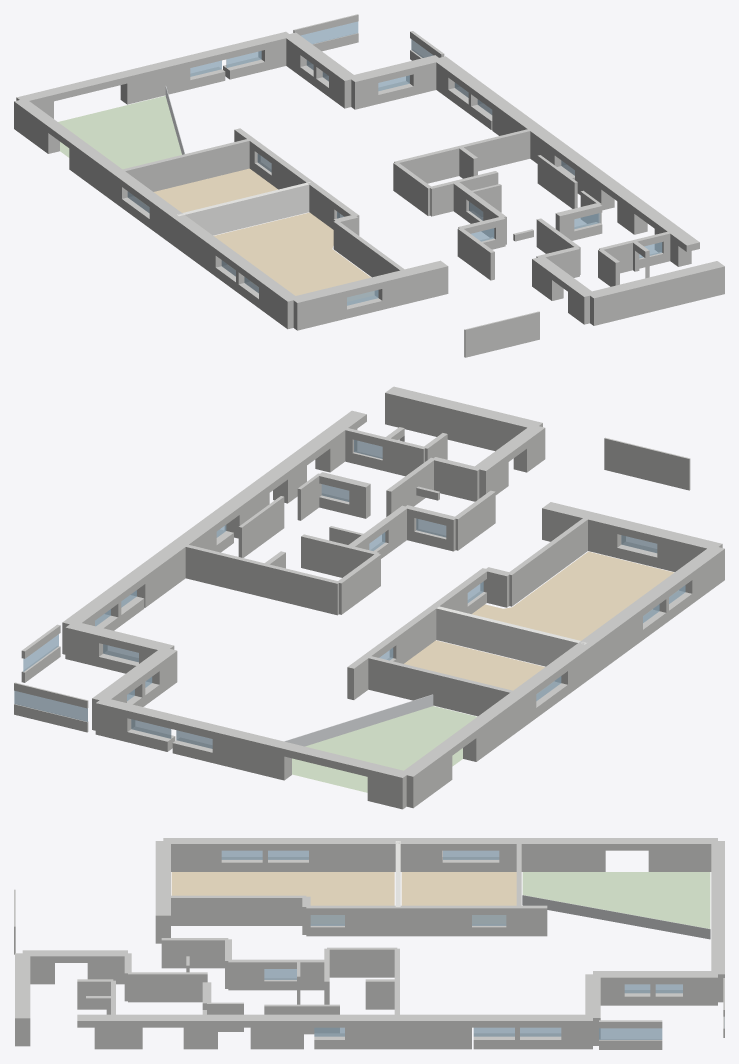
Rendered from Screenshot 2026-10-06 152800_3d.glb.
The picture shows the model from 3 angles, top to bottom: view 1: azimuth 30°, elevation 25°; view 2: azimuth 150°, elevation 25°; view 3: azimuth 270°, elevation 25°; orthographic projection. The views are drawn at different scales.
Visible parts, largest first — view 1: floor_R3_living_144, floor_R1_balcony_142, wall_W20_46, wall_W5_19, wall_W4_18, floor_R2_living_143, wall_W2_5, wall_W21_47, wall_W15_34, wall_W24_56, wall_W25_65, wall_W7_21 (+37 smaller); view 2: floor_R3_living_144, floor_R1_balcony_142, wall_W20_46, wall_W5_19, wall_W4_18, floor_R2_living_143, wall_W2_5, wall_W25_65, wall_W21_47, wall_W7_21, wall_W6_20, wall_W22_50 (+41 smaller); view 3: floor_R1_balcony_142, floor_R3_living_144, floor_R2_living_143, wall_W25_65, wall_W24_56, wall_W22_50, wall_W41_107, wall_W34_84, wall_W27_70, wall_W22_48, wall_W30_76, railing_R1_141 (+67 smaller).
Boxes of the visible parts, bbox=[...] form: floor_R3_living_144: bbox=[214, 212, 374, 301]; floor_R1_balcony_142: bbox=[58, 96, 181, 169]; wall_W20_46: bbox=[586, 261, 724, 325]; wall_W5_19: bbox=[177, 182, 310, 235]; wall_W4_18: bbox=[117, 138, 251, 191]; floor_R2_living_143: bbox=[137, 168, 277, 212]; wall_W2_5: bbox=[120, 56, 190, 104]; wall_W21_47: bbox=[464, 311, 539, 357]; wall_W15_34: bbox=[291, 285, 346, 330]; wall_W24_56: bbox=[171, 215, 226, 276]; wall_W25_65: bbox=[333, 221, 405, 277]; wall_W7_21: bbox=[459, 128, 535, 171]; floor_R3_living_144: bbox=[472, 551, 678, 640]; floor_R1_balcony_142: bbox=[292, 706, 476, 792]; wall_W20_46: bbox=[385, 386, 542, 451]; wall_W5_19: bbox=[436, 606, 586, 666]; wall_W4_18: bbox=[367, 655, 519, 716]; floor_R2_living_143: bbox=[404, 640, 552, 693]; wall_W2_5: bbox=[212, 726, 291, 780]; wall_W25_65: bbox=[509, 515, 591, 606]; wall_W21_47: bbox=[604, 437, 690, 490]; wall_W7_21: bbox=[178, 543, 264, 597]; wall_W6_20: bbox=[264, 564, 339, 615]; wall_W22_50: bbox=[463, 693, 524, 761]; floor_R1_balcony_142: bbox=[522, 872, 710, 928]; floor_R3_living_144: bbox=[171, 872, 394, 923]; floor_R2_living_143: bbox=[401, 872, 516, 923]; wall_W25_65: bbox=[163, 895, 306, 925]; wall_W24_56: bbox=[309, 838, 398, 871]; wall_W22_50: bbox=[519, 838, 605, 871]; wall_W41_107: bbox=[397, 1014, 471, 1049]; wall_W34_84: bbox=[128, 972, 207, 1002]; wall_W27_70: bbox=[398, 905, 471, 936]; wall_W22_48: bbox=[648, 838, 717, 871]; wall_W30_76: bbox=[327, 947, 397, 977]; railing_R1_141: bbox=[522, 895, 710, 939].
Bounding box in the file's own units: 38.63 × 2.75 × 63.17.
